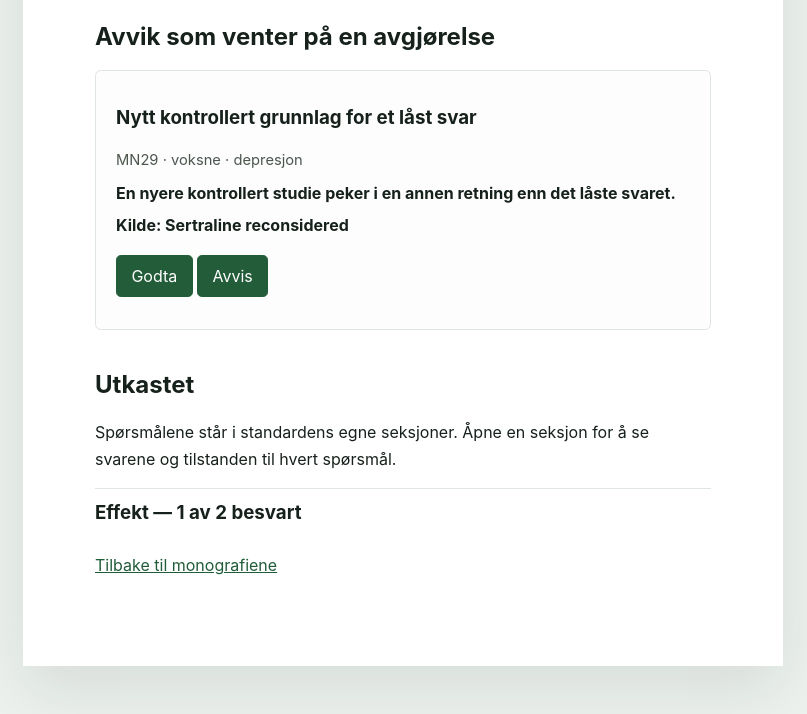
spørsmålene i utkastet › lar et spørsmål som venter på tilgang, stå uten faglig utfall
(page scrolled)
What coordinates should you click on to do the following:
click the button "Effekt — 1 av 2 besvart"
I would click on:
 (122, 513)
Its box is [95,489,711,536].
(page scrolled)
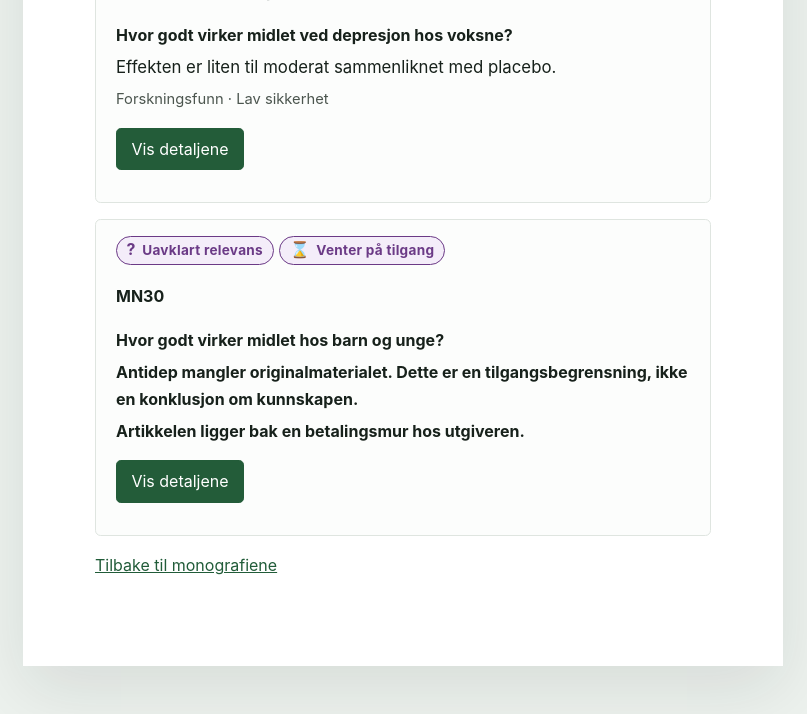
Check: the text "Venter på tilgang" is shown, box [316,242,434,258]
Check: the text "Uavklart relevans" is shown, box [142,242,263,258]
Check: the text "Dette er en tilgangsbegrensning, ikke en konklusjon" is shown, box [116,362,688,409]
